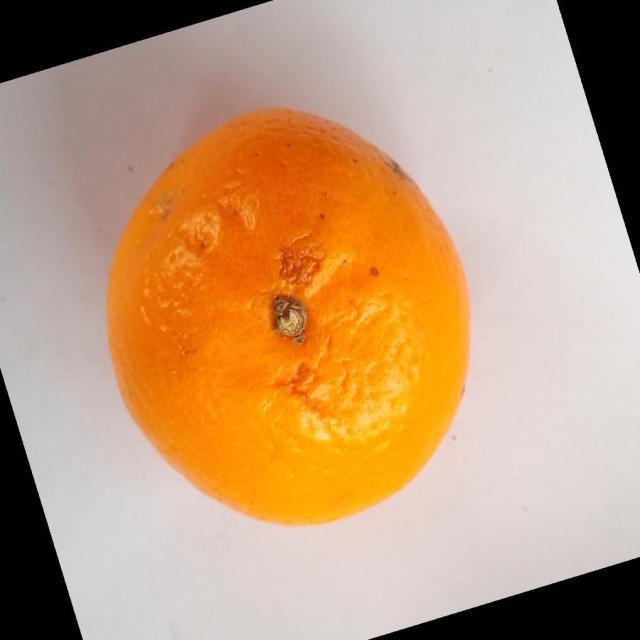agrume: (105, 105, 471, 527)
